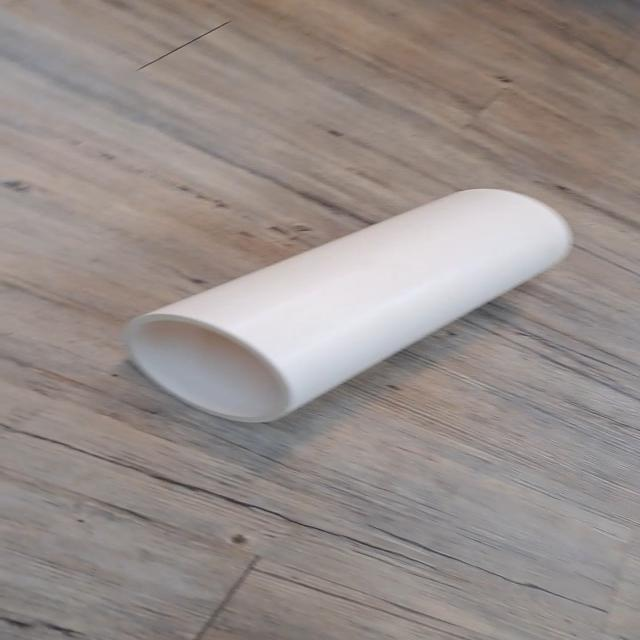CORAL: (113, 184, 592, 428)
